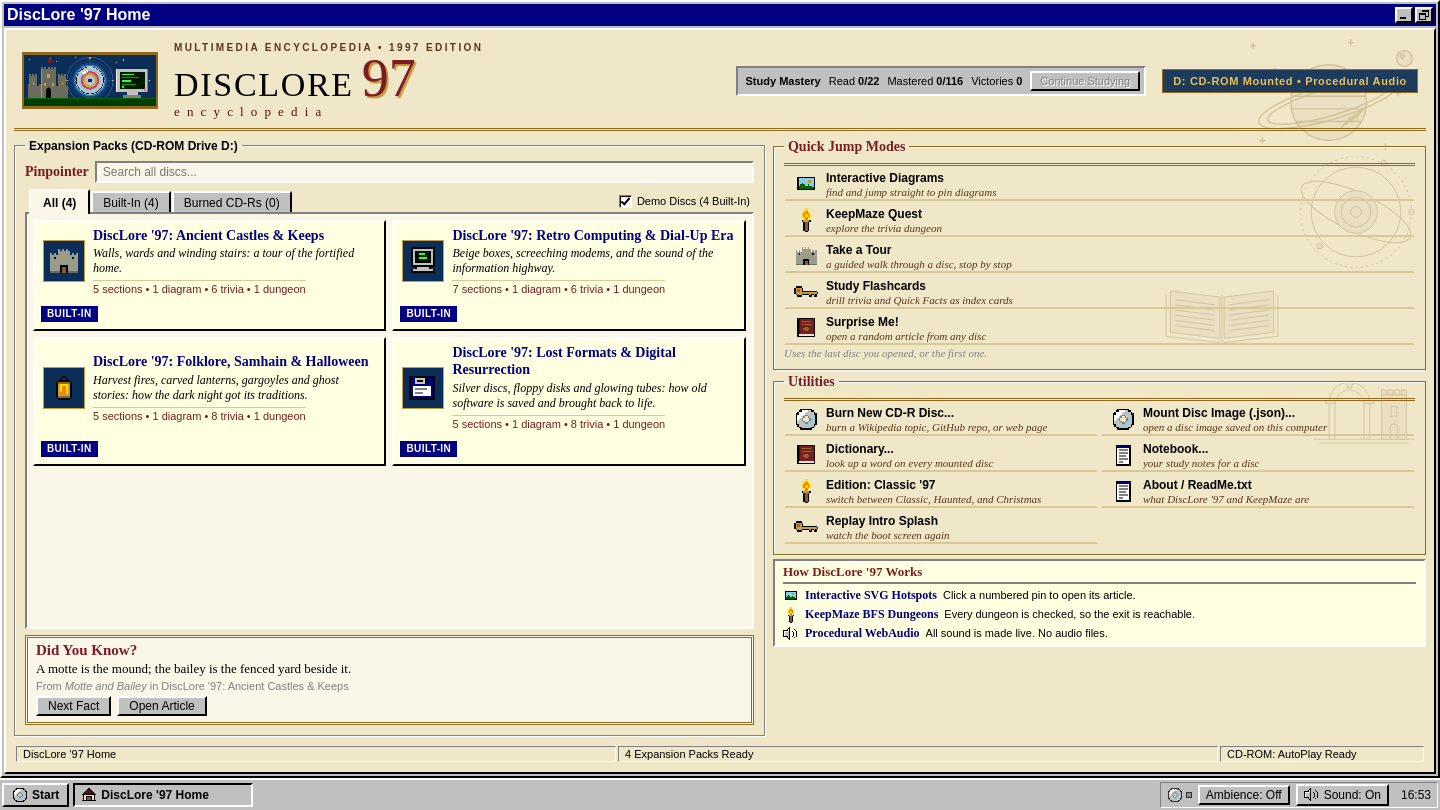
Test: a first visit › the Pinpointer, spotlight, and Surprise Me! reach the new discs
The width and height of the screenshot is (1440, 810).
Type "emulator" into the dropdown labelled "Pinpointer" at (424, 172), box x1=95 y1=161 x2=754 y2=183
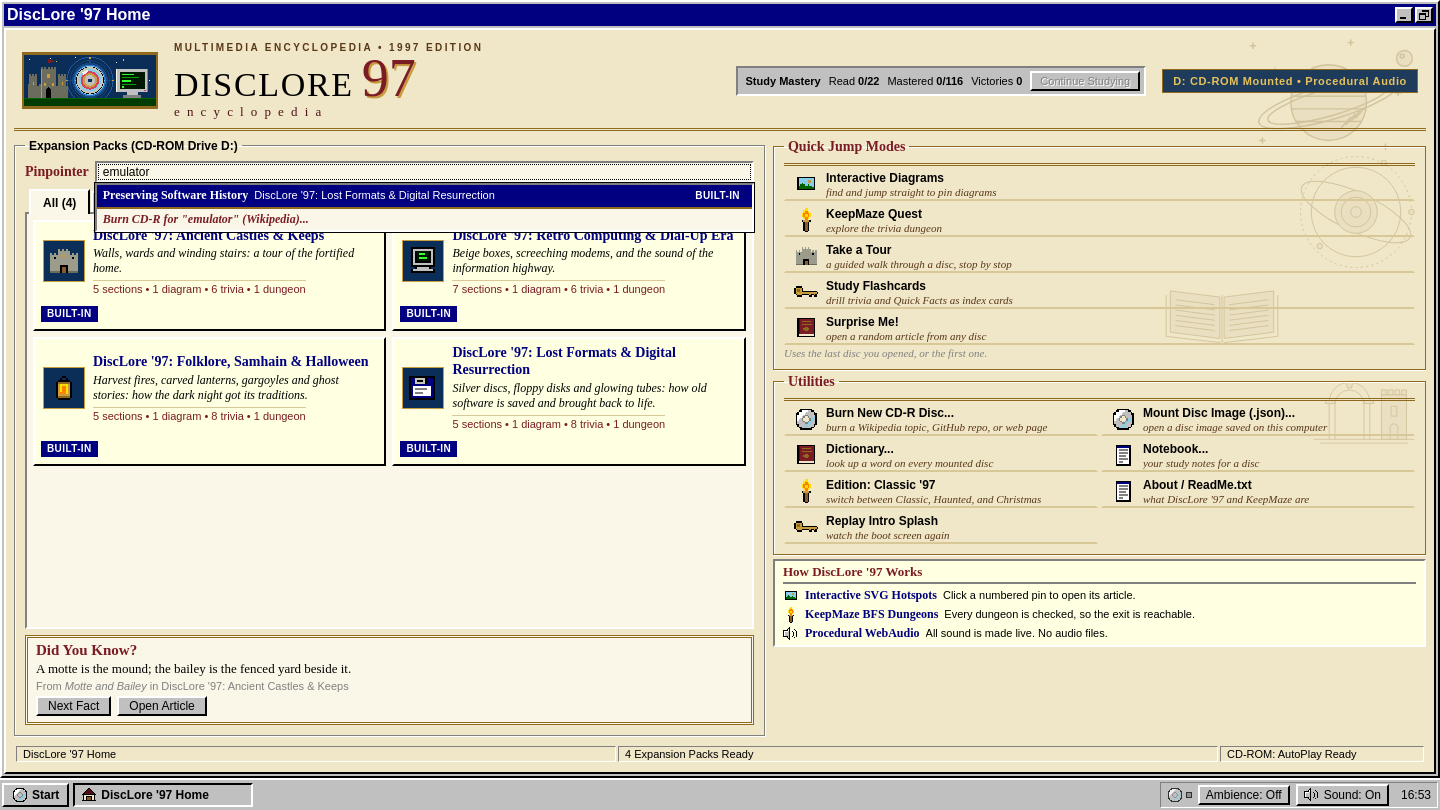
Click the option "Preserving Software History" at (424, 196), box x1=97 y1=185 x2=752 y2=207
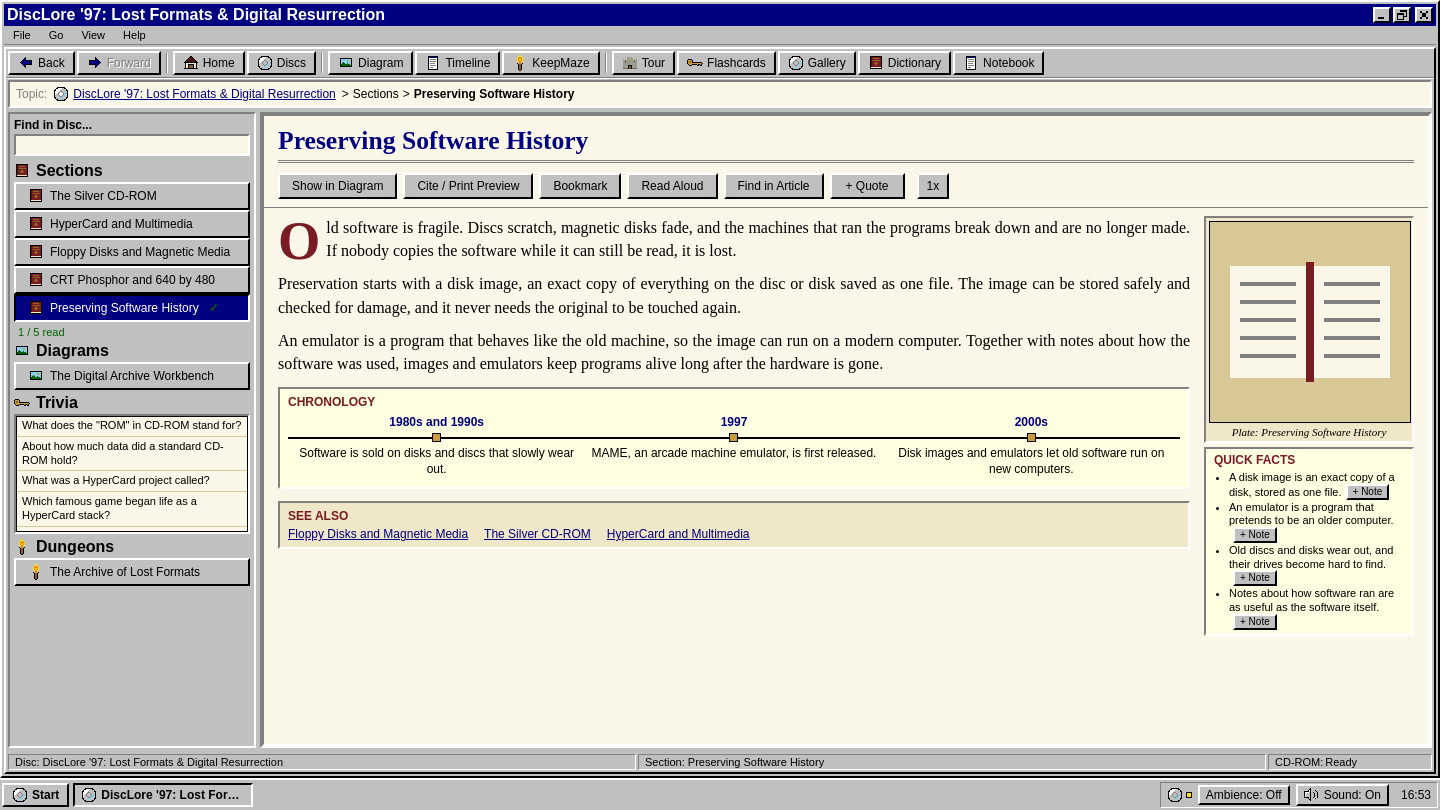
Result: the dialog "DiscLore '97: Lost Formats & Digital Resurrection" is shown
Result: the heading "Preserving Software History" is shown at x1=278 y1=126 x2=1414 y2=163
